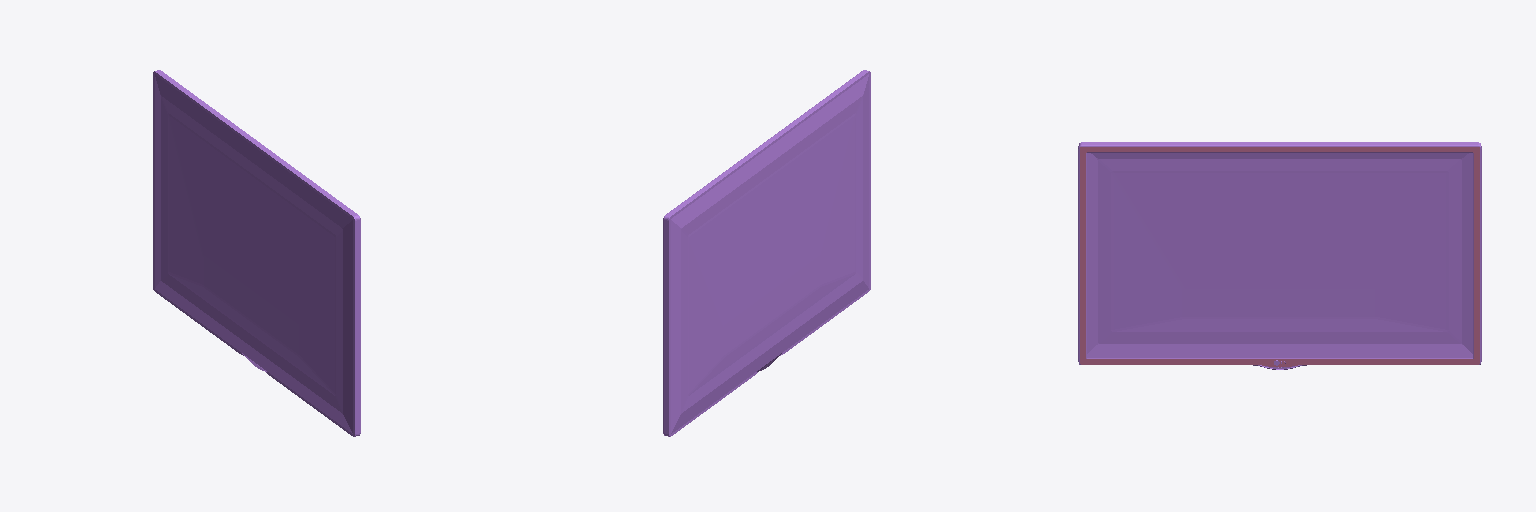
The model's file is tvcase.obj.
3 views of the same model, side by side, from view 1: azimuth 30°, elevation 25°; view 2: azimuth 150°, elevation 25°; view 3: azimuth 270°, elevation 25° (orthographic).
Parts seen in each view (by area): view 1: tv_lg001; view 2: tv_lg001; view 3: tv_lg001, Mesh03.
Part boxes in pixels (bbox=[...]): tv_lg001: bbox=[153, 70, 360, 436]; tv_lg001: bbox=[663, 70, 870, 436]; tv_lg001: bbox=[1078, 142, 1481, 369]; Mesh03: bbox=[1080, 147, 1479, 367].
Bounding box in the file's own units: 1.93 × 45.5 × 73.84.